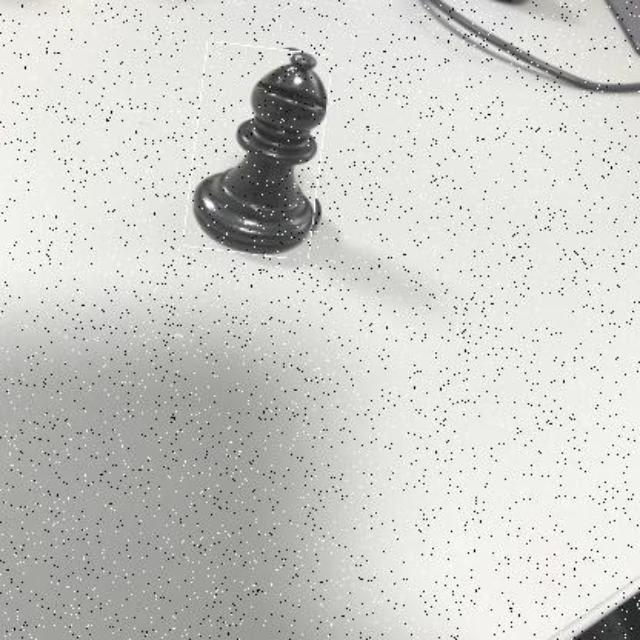black-bishop: (190, 45, 326, 257)
